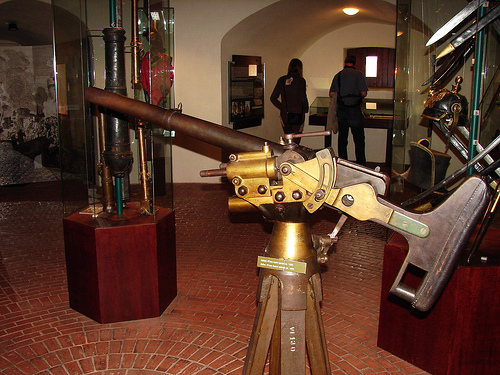rifle: (77, 95, 476, 344)
